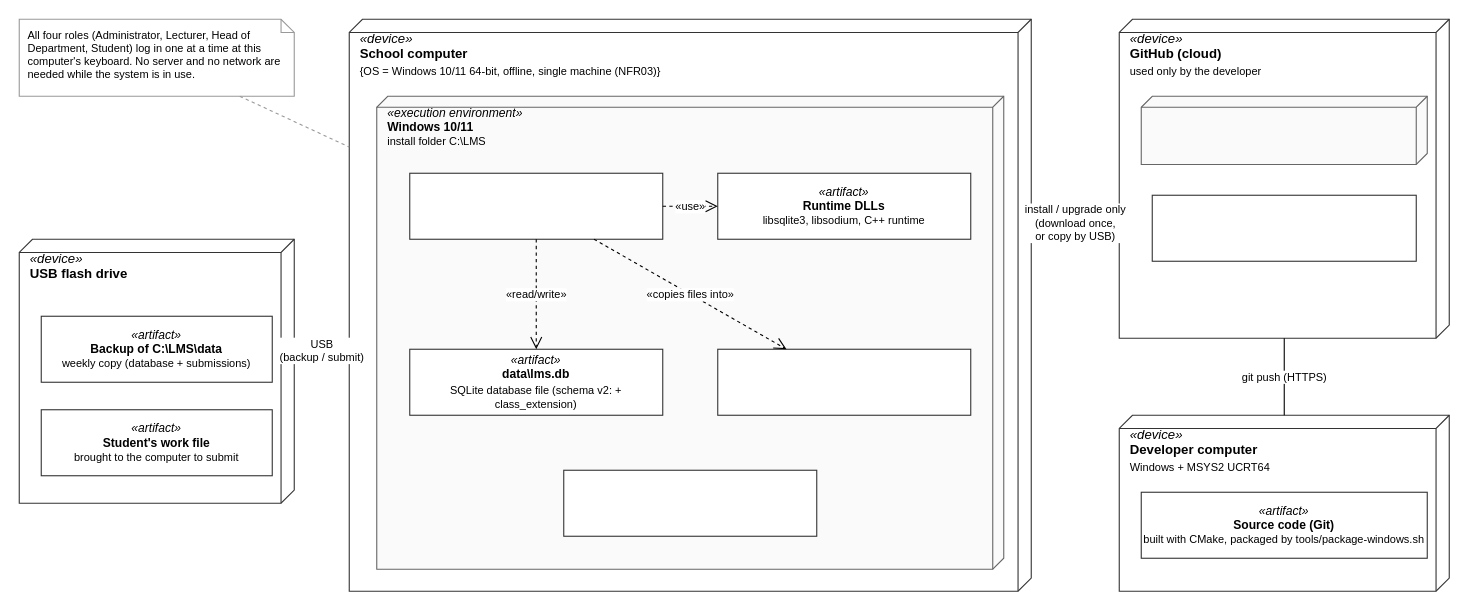
Image size: 1469x611. Some labels were removed from this diagram. The centre of each missing label's shape, as x and y in pixels:
"«artifact» data\submissions\ copies of submitted files" belongs at point (844, 381).
"«artifact» Guides INSTALLATION_GUIDE, user-manuals, RELEASE_NOTES" belongs at point (690, 502).
"«artifact» LMS-1.1.0-windows.zip release v1.1 (tag v1.1)" belongs at point (1283, 227).
"«artifact» lms.exe Moderated LMS 1.1.0 (console program)" belongs at point (536, 205).
"«execution environment» GitHub Actions CI: build, tests, coverage on every push" belongs at point (1283, 129).
